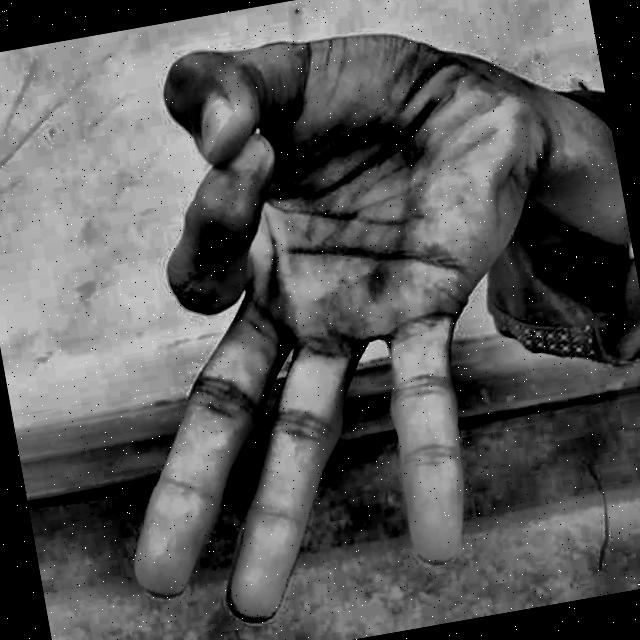Fa: (12, 0, 629, 640)
